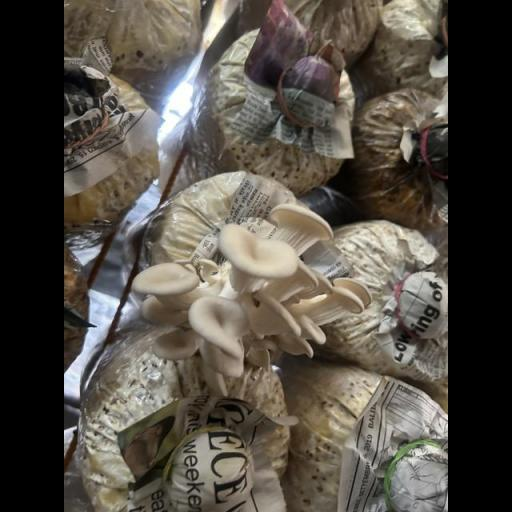White Oyster Mushroom: (122, 193, 378, 390)
